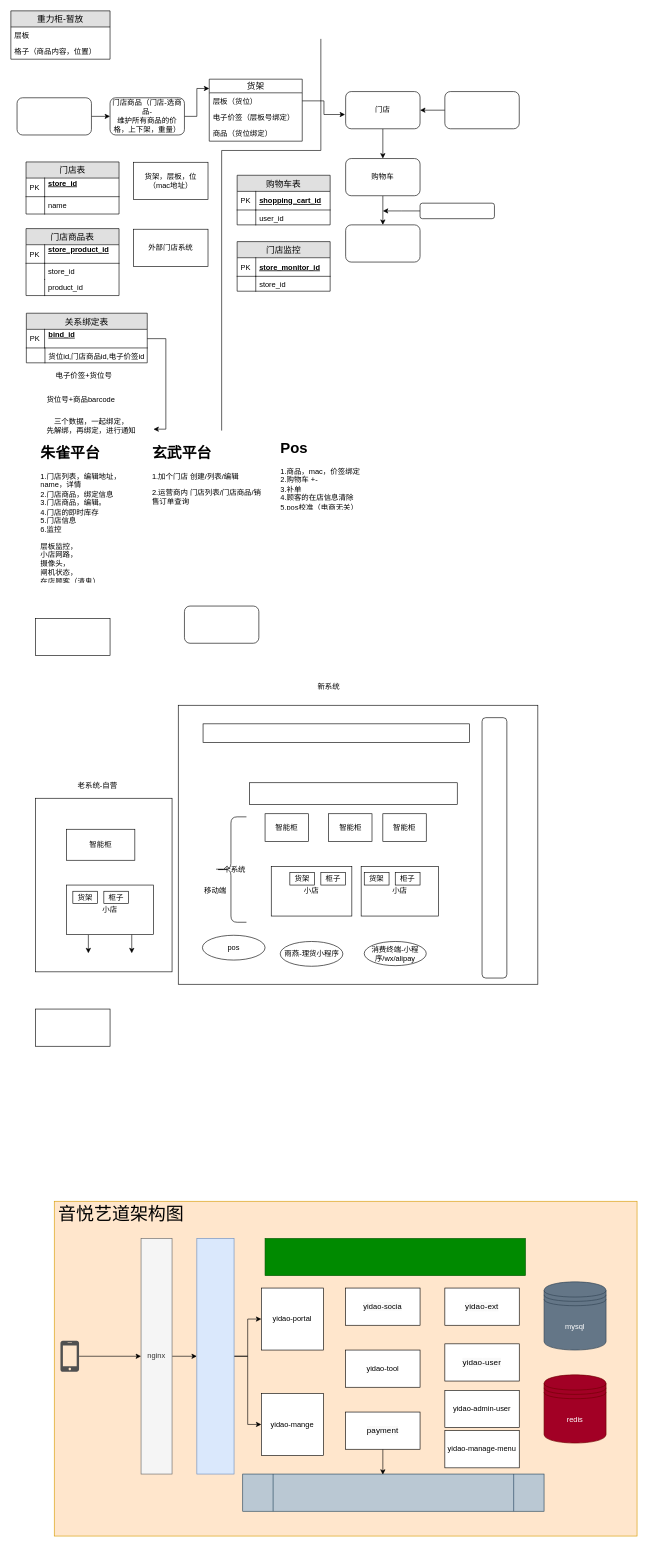
Some shapes in this 648 by 1547 pixel diagram are drawn without their labels. Each missing label, with the centre of its shape:
"Eureka" belongs at point (394, 1257).
"gateway" belongs at point (215, 1356).
"代理商，下面关联很多的运营商" belongs at point (336, 732).
"商品档案库" belongs at point (53, 116).
"平台（玄武）" belongs at point (494, 847).
"用户唯一表示码" belongs at point (481, 110).
"订单" belongs at point (382, 243).
"运营商-系统（朱雀）" belongs at point (353, 793).
"闸机进出门逻辑" belongs at point (456, 211).
"阿里云RocketMq" belongs at point (393, 1492).
